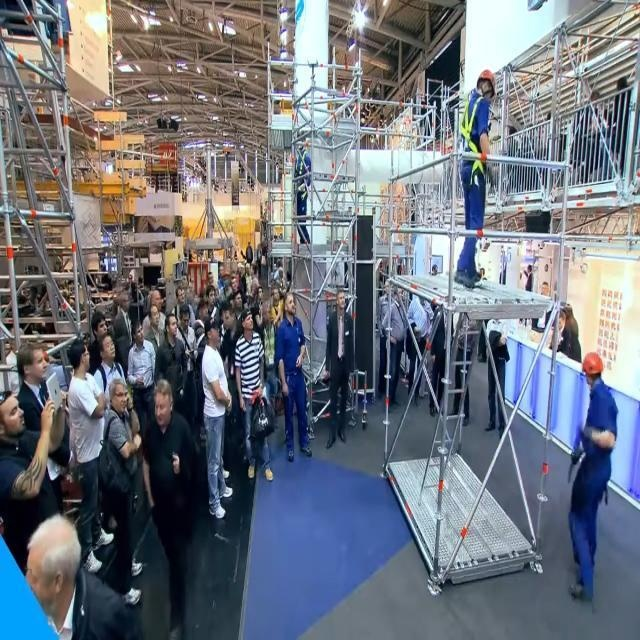Arnes_seguridad: (458, 88, 485, 184), (296, 149, 307, 193)
